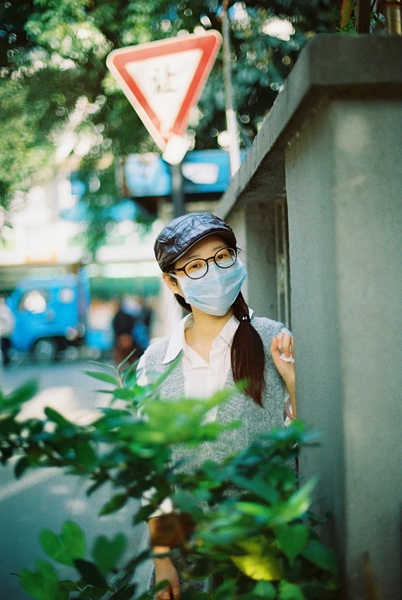face_mask: (181, 232, 236, 315)
